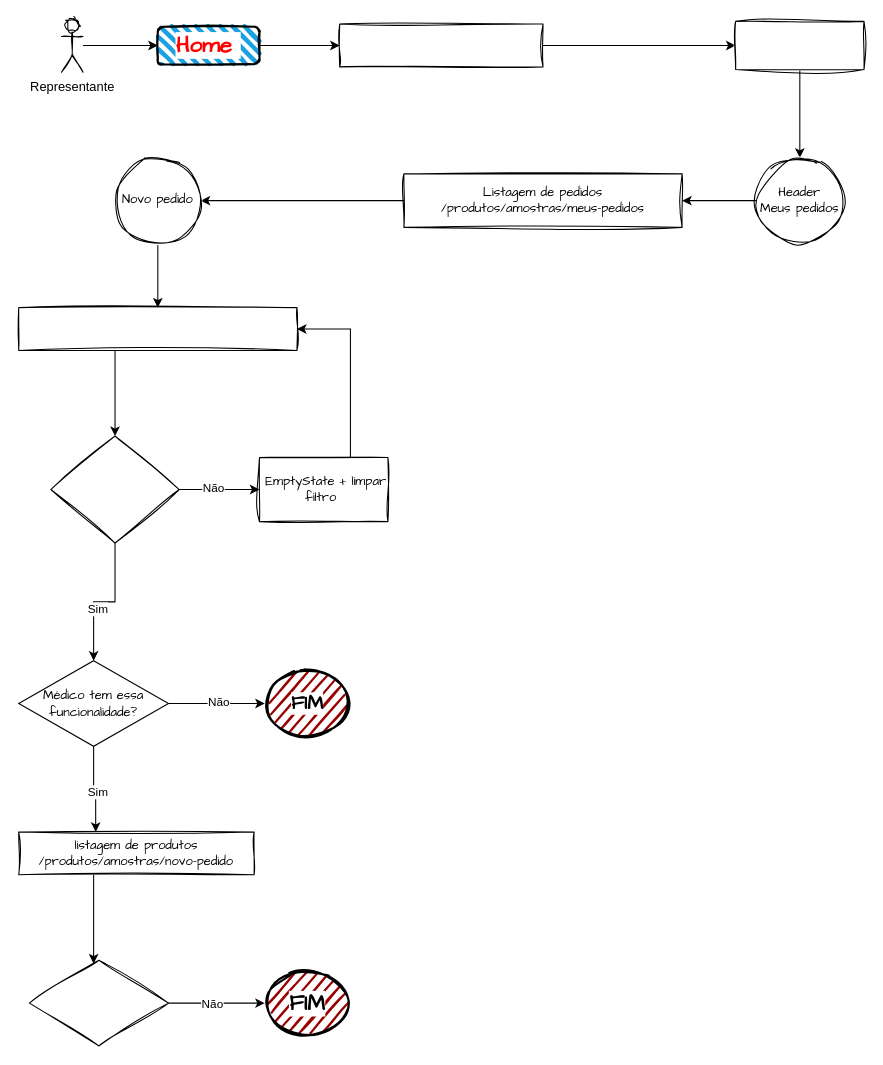
The diagram is 883 pixels wide and 1065 high, and some of its shapes have lost their labels. The centre of each missing label's shape, as x and y in pixels:
Existe produtos disponíveis?: (98,1002)
Login /autenticacao/colaborador: (441,45)
Médico existe?: (114,489)
Selecionar médicos /produtos/amostras/selecionar-medico: (157,328)
Wellcome /inicio: (799,45)
